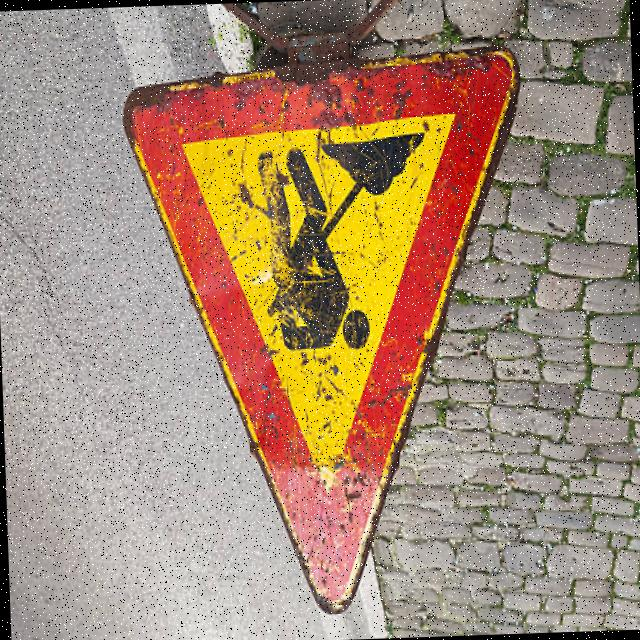road_work: (121, 44, 538, 616)
